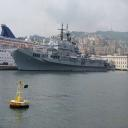Portanaves: (7, 24, 109, 73)
